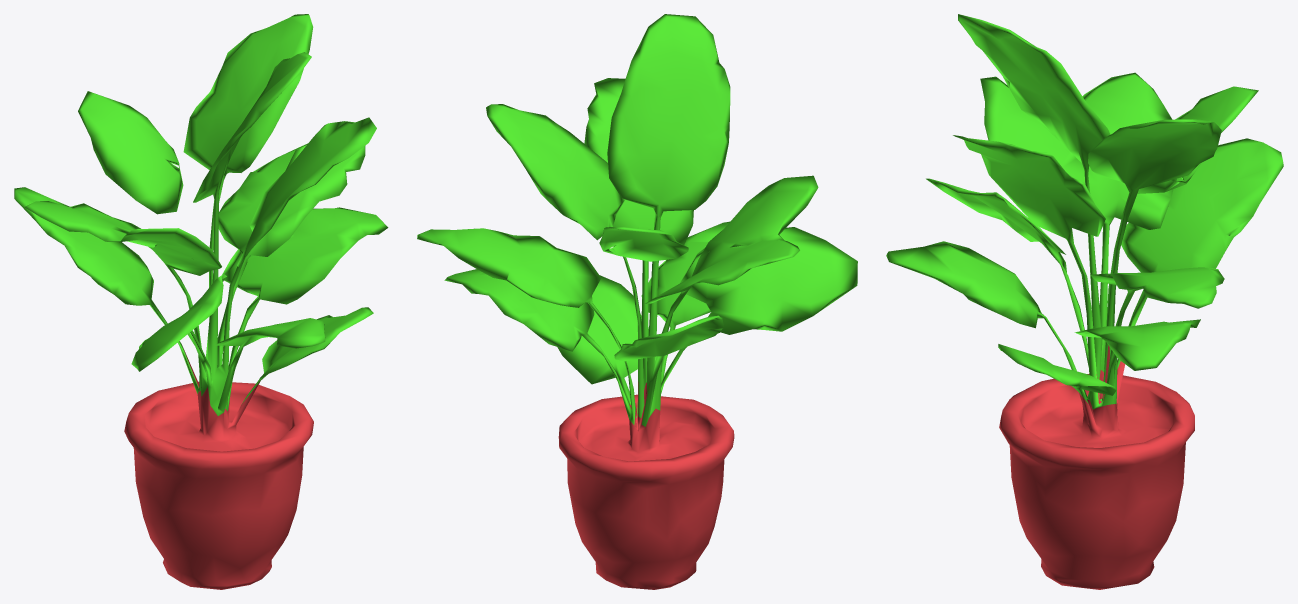
The model's file is petite_plante_2.glb.
3 views of the same model, side by side, from view 1: azimuth 30°, elevation 25°; view 2: azimuth 150°, elevation 25°; view 3: azimuth 270°, elevation 25° (orthographic). The views are drawn at different scales.
Parts seen in each view (by area): view 1: Mesh1; view 2: Mesh1; view 3: Mesh1.
Part boxes in pixels (x1=…): Mesh1: x1=14, y1=14, x2=388, y2=589; Mesh1: x1=417, y1=14, x2=857, y2=589; Mesh1: x1=886, y1=14, x2=1283, y2=589.
Bounding box in the file's own units: 1.43 × 2 × 1.27.
